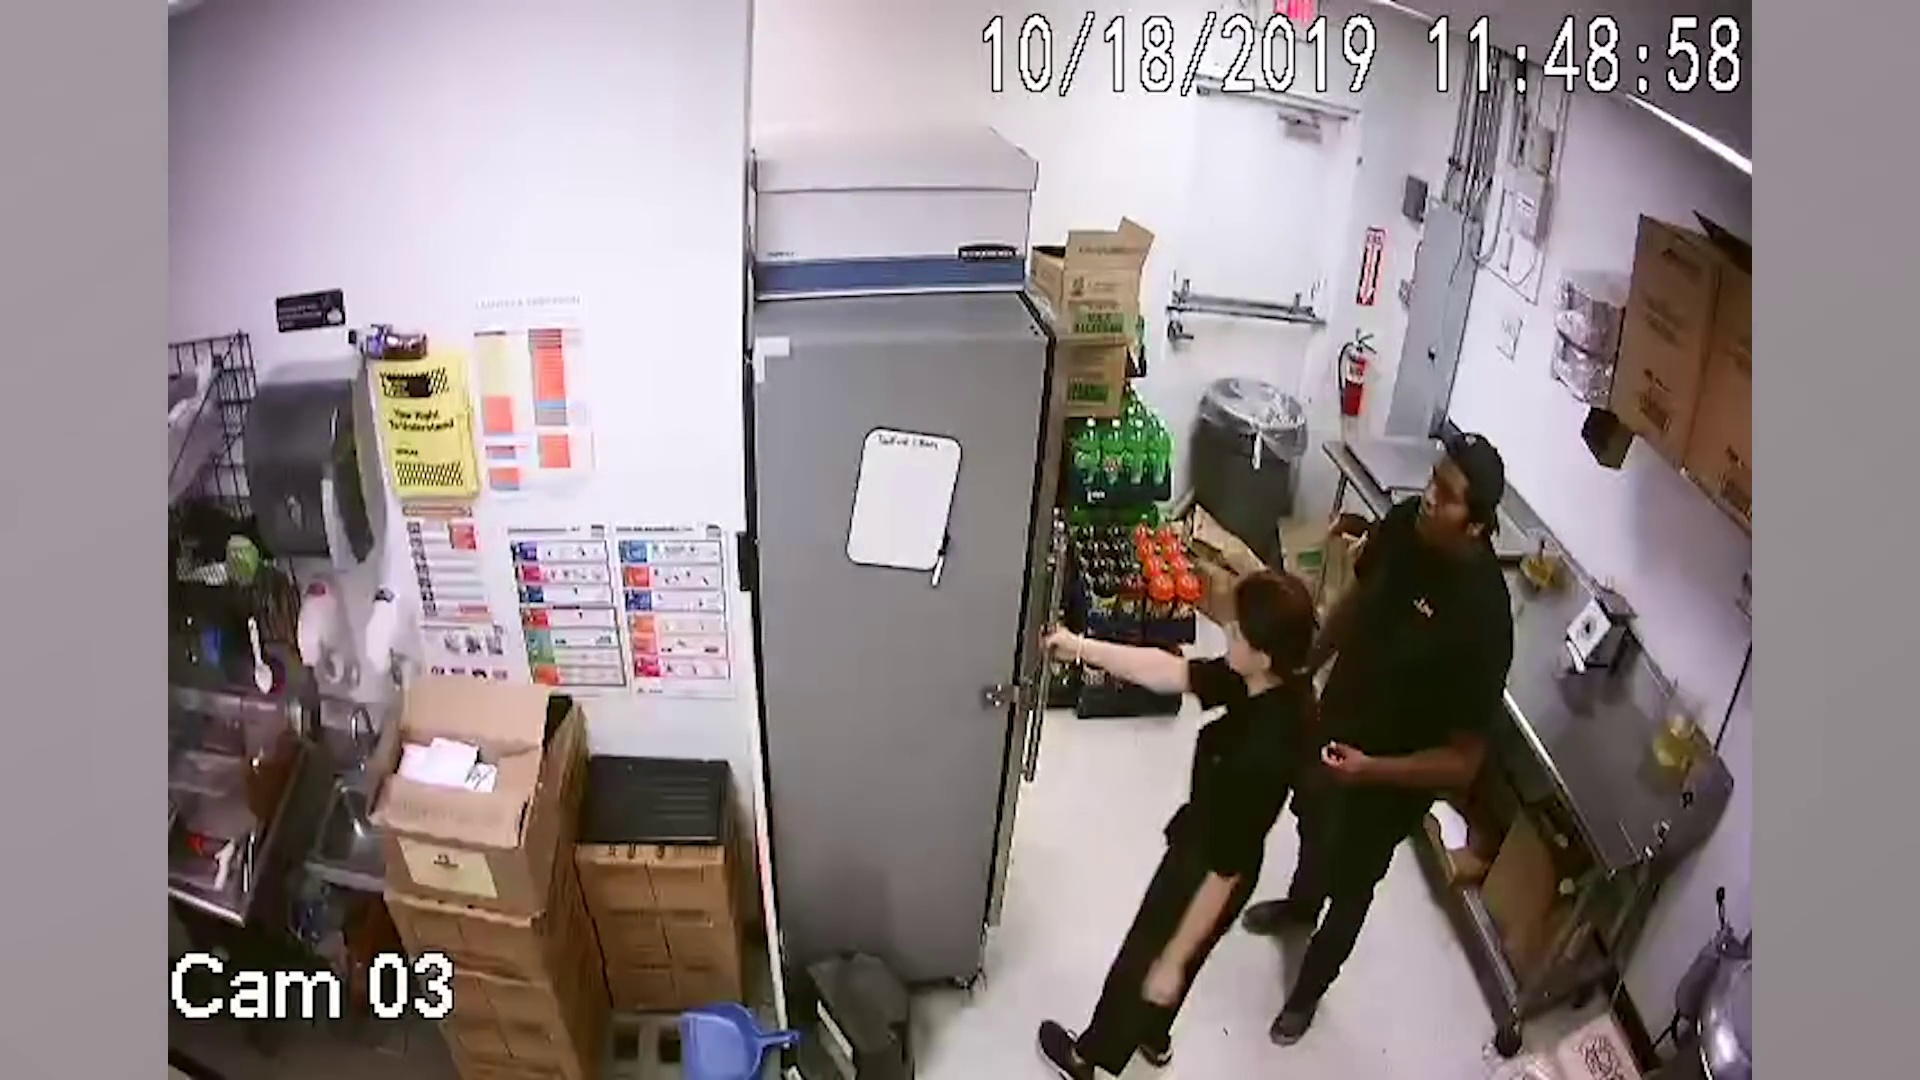face: (1418, 471, 1473, 541), (1224, 611, 1267, 667)
